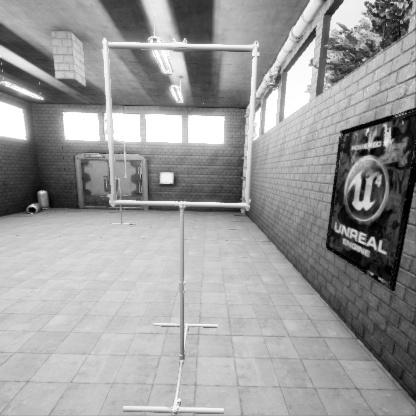gate: (104, 213, 274, 385), (108, 238, 126, 280)
